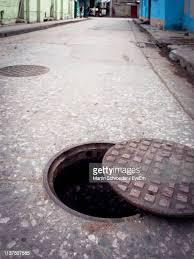open manhole-not overflowing-: (44, 138, 194, 234)
